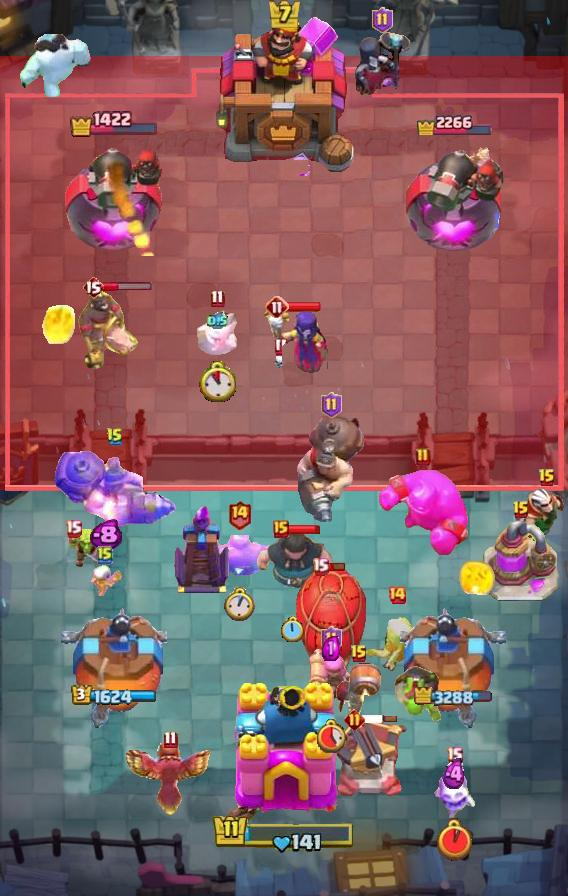axe: (260, 306, 328, 374)
bar-level: (392, 663, 442, 723)
bat: (195, 309, 239, 355)
cannon-cart: (295, 563, 367, 703)
clock: (212, 813, 356, 855)
clone: (377, 468, 469, 558)
electro-spirit: (90, 519, 123, 552), (442, 757, 467, 790), (322, 635, 340, 660), (208, 312, 229, 330)
elixir: (200, 361, 237, 402), (437, 819, 472, 861), (314, 719, 348, 754), (225, 587, 255, 621), (280, 616, 304, 644)
emote: (102, 280, 154, 291), (286, 301, 322, 313), (287, 525, 321, 536), (362, 714, 398, 724), (326, 560, 346, 571)
freeze: (76, 286, 140, 372)
golden-knight: (124, 742, 216, 818)
heal-spirit: (88, 564, 122, 596)
ice-spirit-evolution-symbol: (172, 503, 232, 595)
king-tower: (211, 7, 357, 181), (222, 680, 346, 826)
knight: (334, 661, 384, 729)
lava-pup: (322, 718, 410, 800)
mirror: (432, 766, 476, 820)
pekka: (482, 521, 560, 603)
poison: (354, 605, 440, 681)
queen-tower: (61, 603, 167, 731), (400, 603, 506, 731)
rage: (17, 33, 91, 97)
rascal-boy: (351, 31, 413, 101)
royal-hog: (248, 527, 336, 603)
selected: (68, 110, 159, 138), (414, 109, 492, 135), (71, 684, 157, 706), (414, 687, 492, 709)
skeleton-king: (504, 487, 568, 555)
text: (227, 499, 252, 530), (265, 295, 289, 319), (321, 392, 343, 418), (321, 626, 343, 652), (371, 7, 392, 33), (82, 275, 104, 299), (343, 709, 364, 730), (387, 585, 407, 605), (106, 427, 124, 447), (538, 468, 556, 488), (512, 500, 530, 520), (350, 644, 368, 664), (66, 519, 83, 538), (311, 556, 328, 575), (415, 447, 431, 467), (97, 545, 113, 565), (446, 747, 463, 765), (273, 520, 289, 538), (163, 731, 178, 749), (211, 288, 225, 307)
tombstone: (309, 647, 355, 705)
tornado: (202, 531, 276, 583)
tower-bar: (402, 136, 504, 256), (63, 138, 164, 256)
valkyrie: (455, 558, 499, 604), (41, 299, 79, 347)
wizard: (53, 450, 177, 528), (296, 412, 366, 522)
zap: (65, 529, 107, 571)
